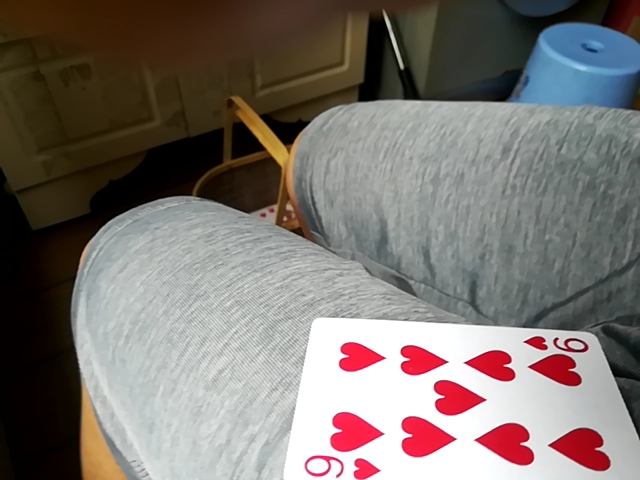hx 9: (284, 315, 627, 477)
